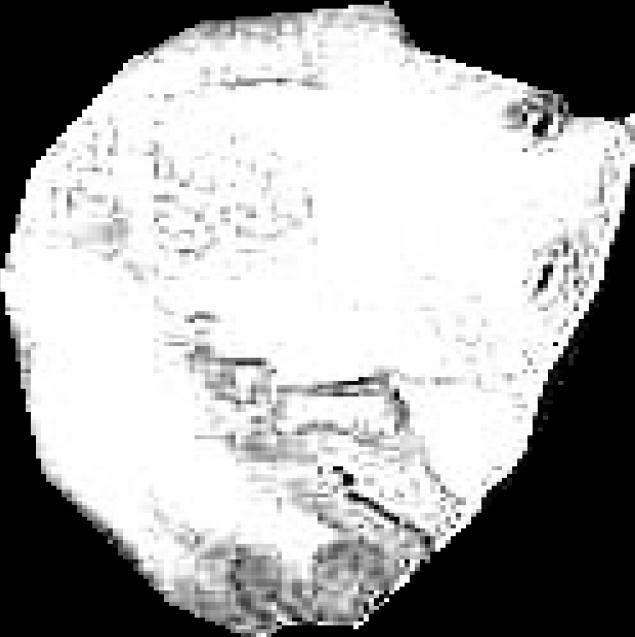tumor_less_chance: (0, 1, 635, 637)
